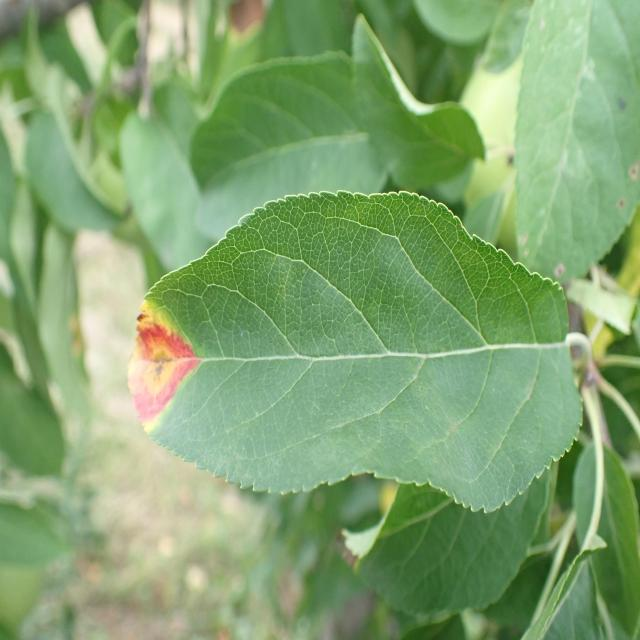rust: (127, 188, 583, 516)
